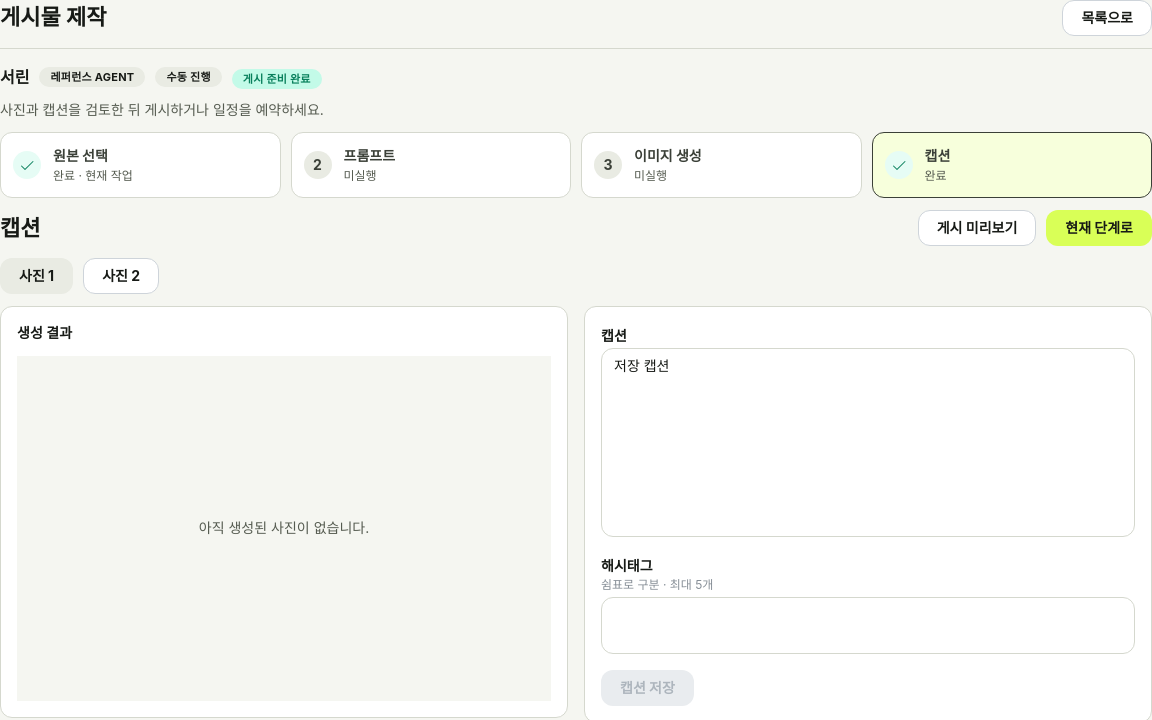
Test case: reference detail › opens a local publish preview with the current caption without publishing
The width and height of the screenshot is (1152, 720).
Replace the text in the text box labelled "캡션" with "미리볼 캡션" at [868, 443], box [601,348,1135,537]
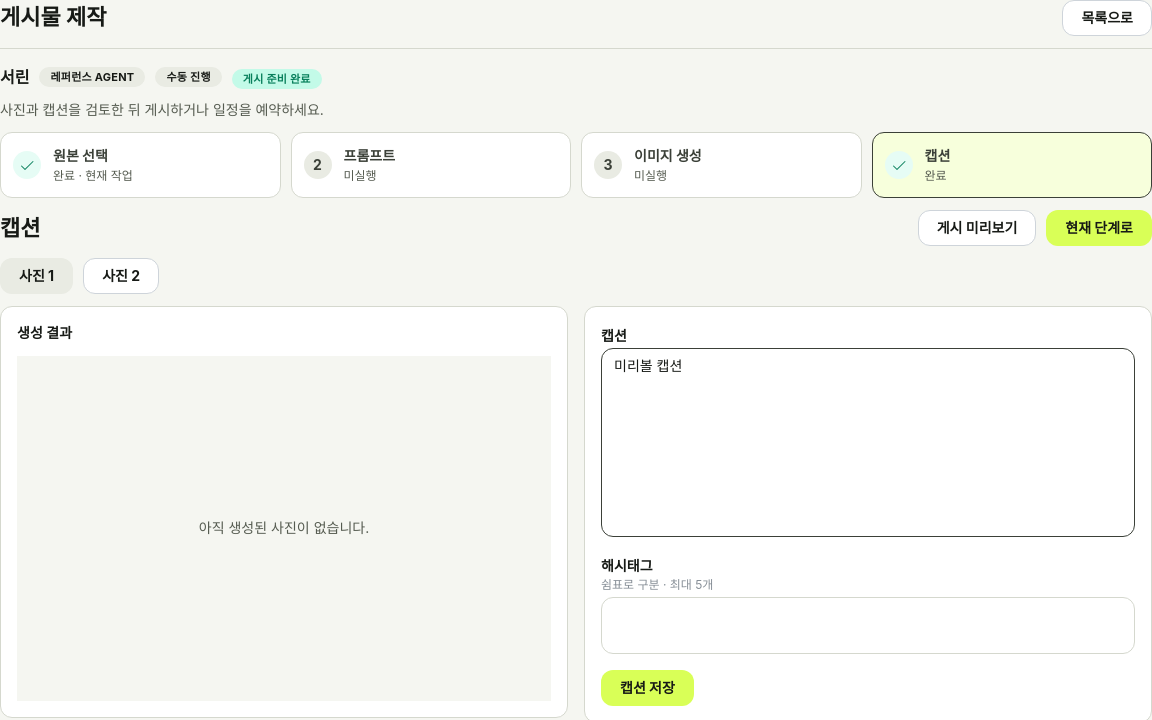
Click the button "게시 미리보기" at [977, 228], box [918,210,1036,246]
(page scrolled)
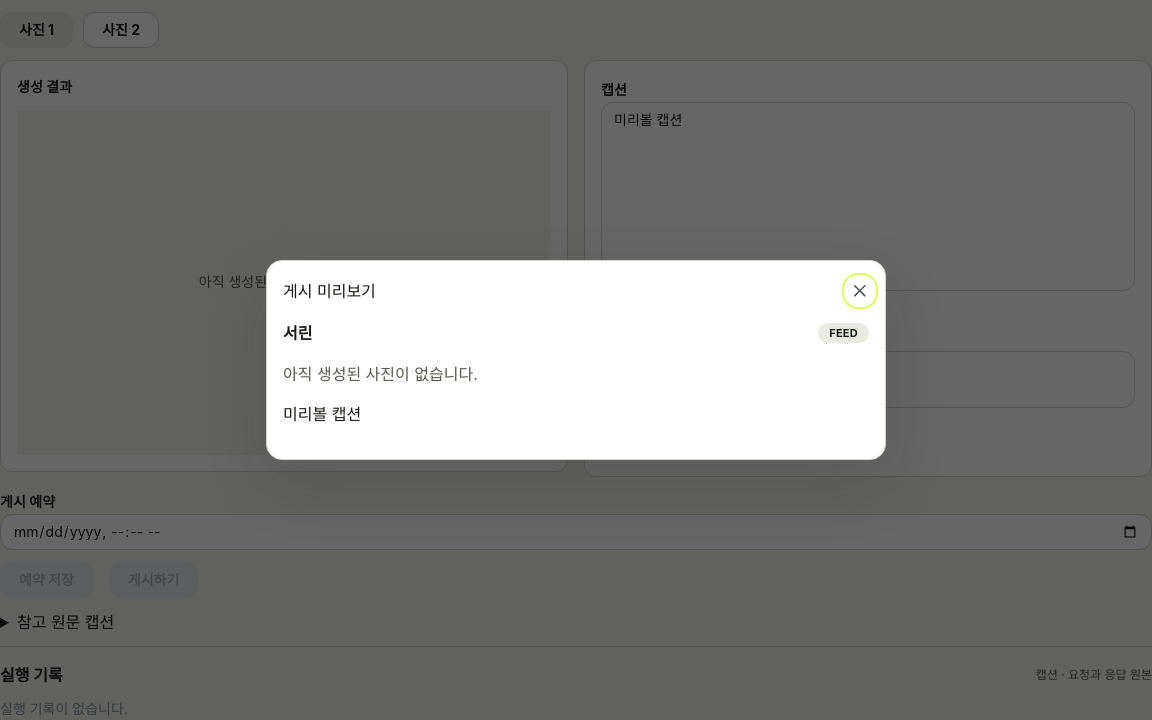
Expected: the button "게시하기" is shown, [109,562,198,598]
Now the dialog "게시 미리보기" is shown, box [266,260,886,460]
Now the text "미리볼 캡션" is shown, box [283,404,361,424]
